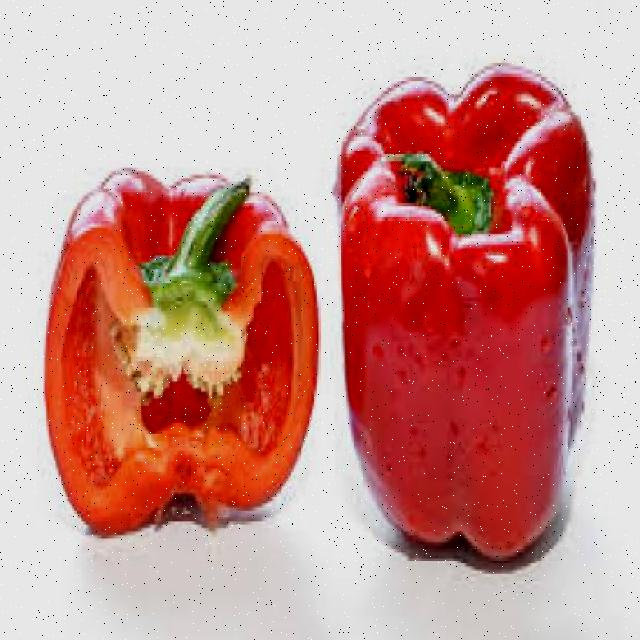Bell Pepper: (337, 62, 597, 576), (49, 155, 322, 538)
